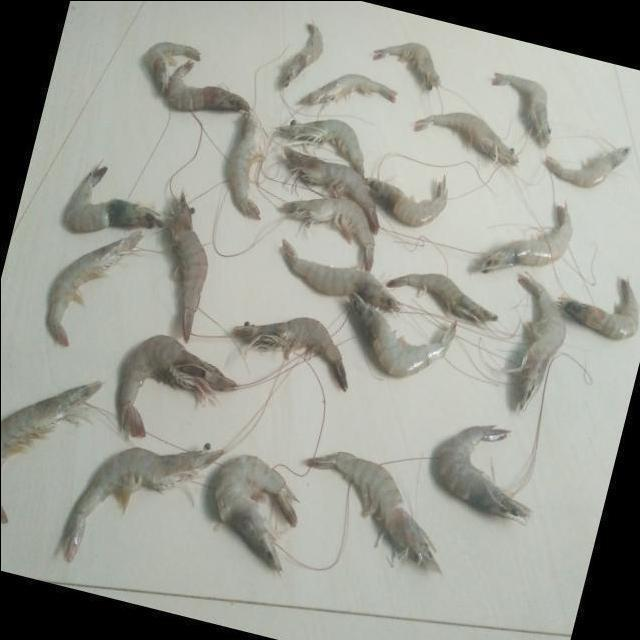shrimp: (64, 447, 223, 562), (307, 452, 441, 572), (118, 334, 236, 437), (46, 230, 141, 346), (215, 455, 297, 571), (349, 293, 457, 376), (0, 380, 101, 468), (437, 425, 531, 518), (232, 316, 347, 391), (282, 238, 400, 310), (283, 145, 379, 233), (281, 197, 375, 270), (64, 165, 161, 231), (478, 204, 573, 271), (519, 274, 566, 409), (169, 190, 207, 342), (387, 272, 498, 322), (414, 111, 518, 163), (278, 118, 364, 176), (559, 278, 640, 339), (493, 71, 551, 146), (165, 59, 249, 110), (365, 175, 447, 225), (228, 110, 263, 217), (545, 145, 632, 186), (373, 41, 441, 89), (300, 72, 397, 103), (278, 21, 323, 86), (145, 40, 200, 91)
